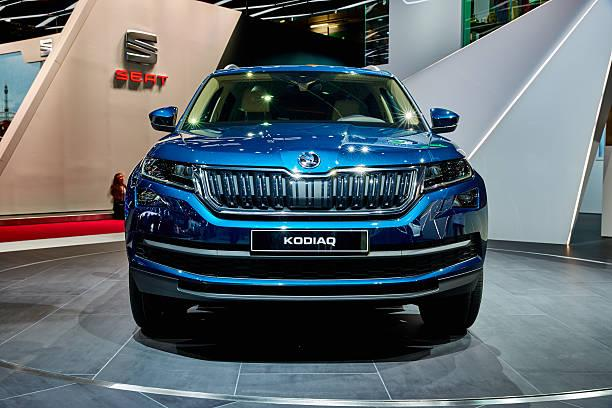skoda: (295, 147, 329, 176)
